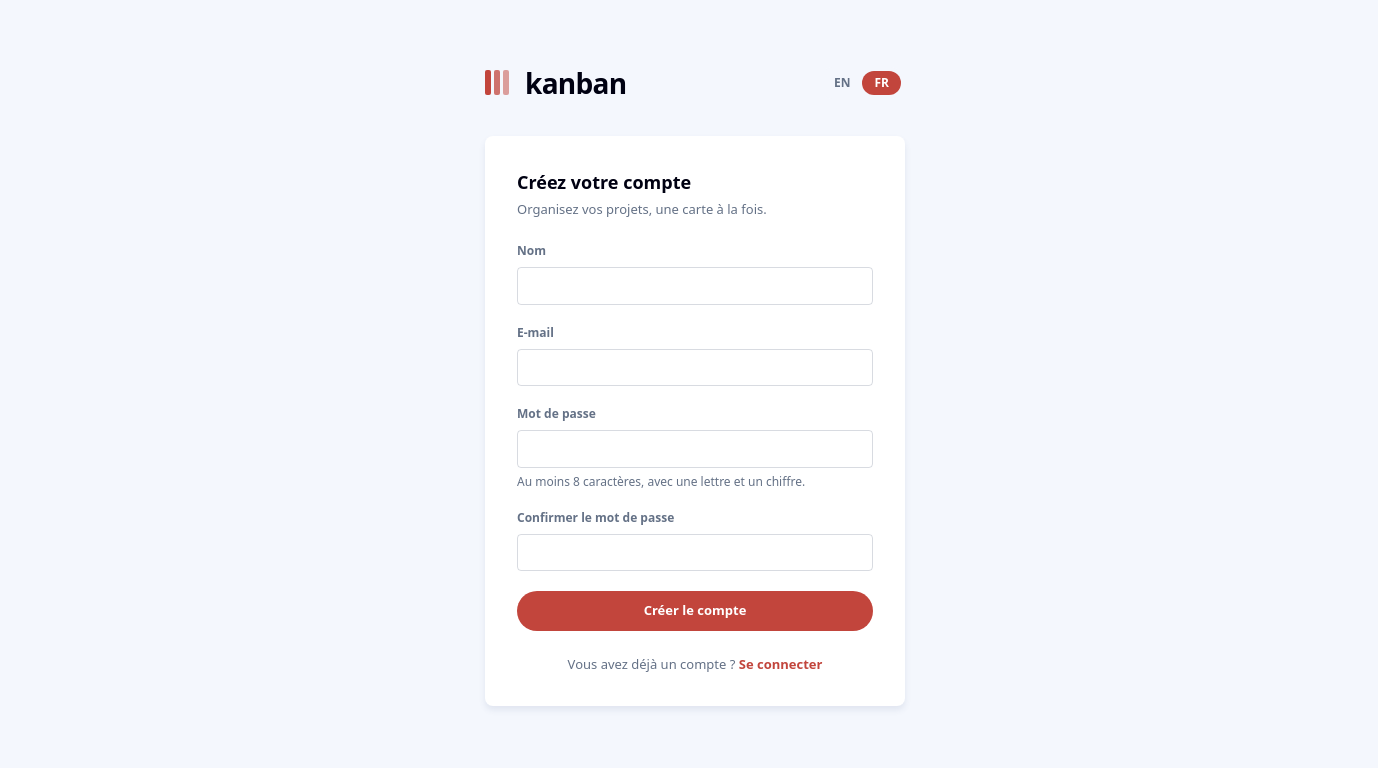
Scenario: signup › creates an account in the chosen language
The width and height of the screenshot is (1378, 768).
Type "Zakariae" into the field labelled "Nom" at {"x": 695, "y": 286}, box top-left (517, 267), bottom-right (873, 305)
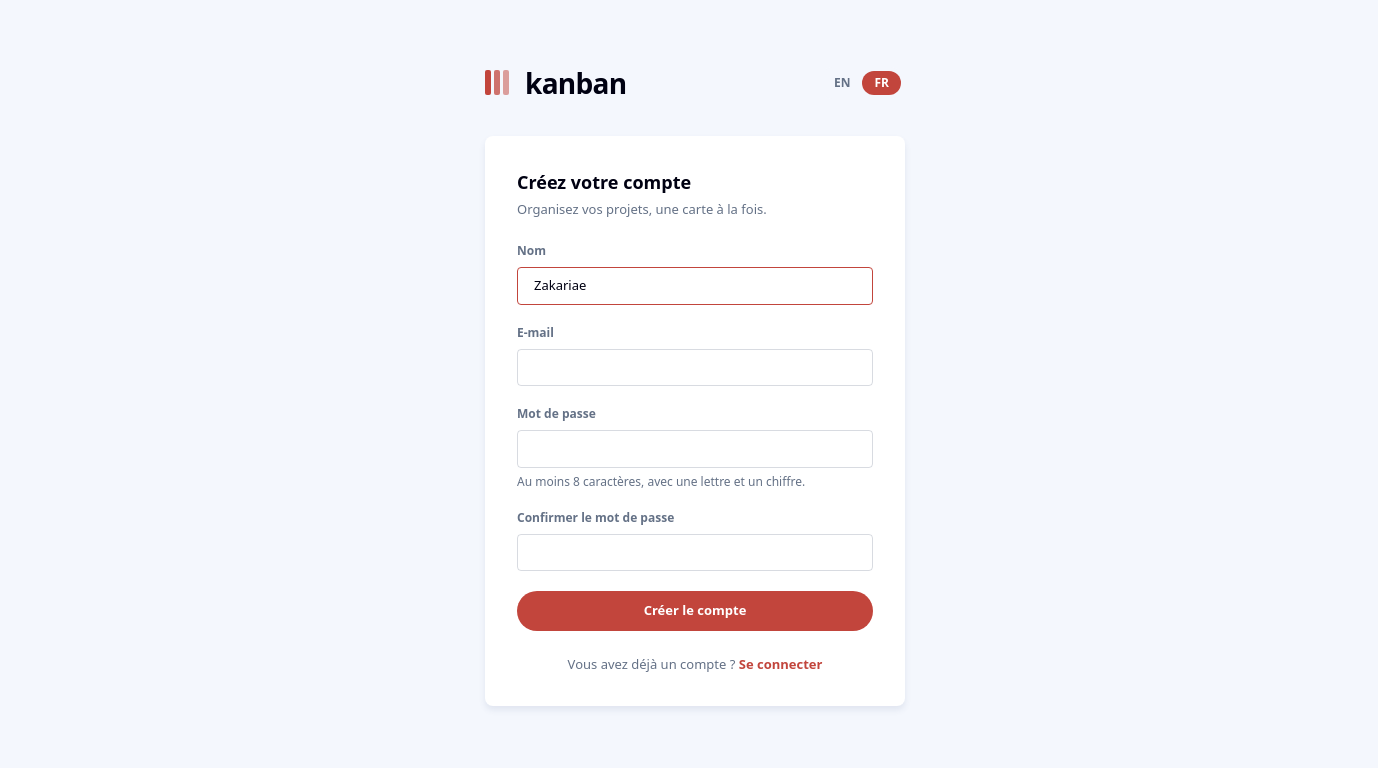
Type "zak@example.com" into the field labelled "E-mail" at {"x": 695, "y": 368}, box top-left (517, 349), bottom-right (873, 386)
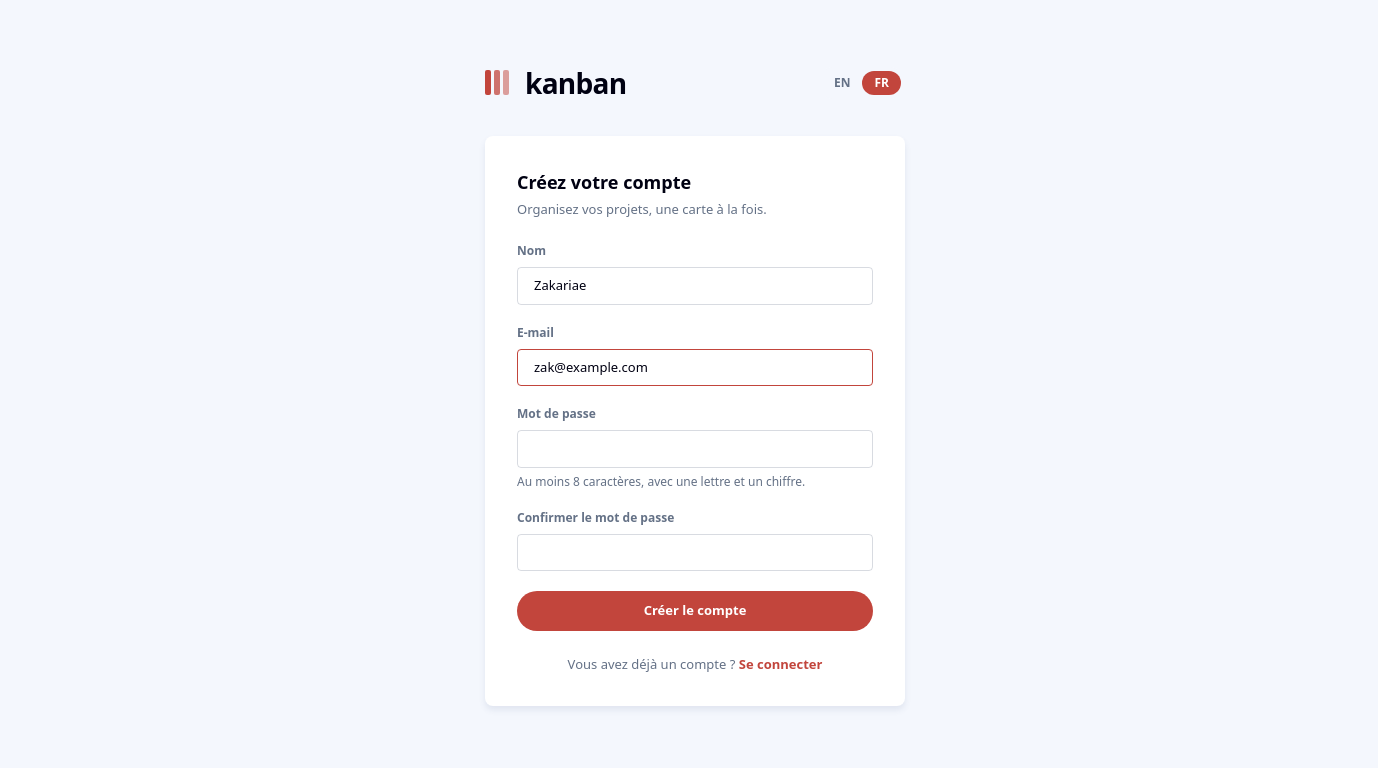
Type "Secret123" into the password field labelled "Mot de passe" at {"x": 695, "y": 449}, box top-left (517, 430), bottom-right (873, 468)
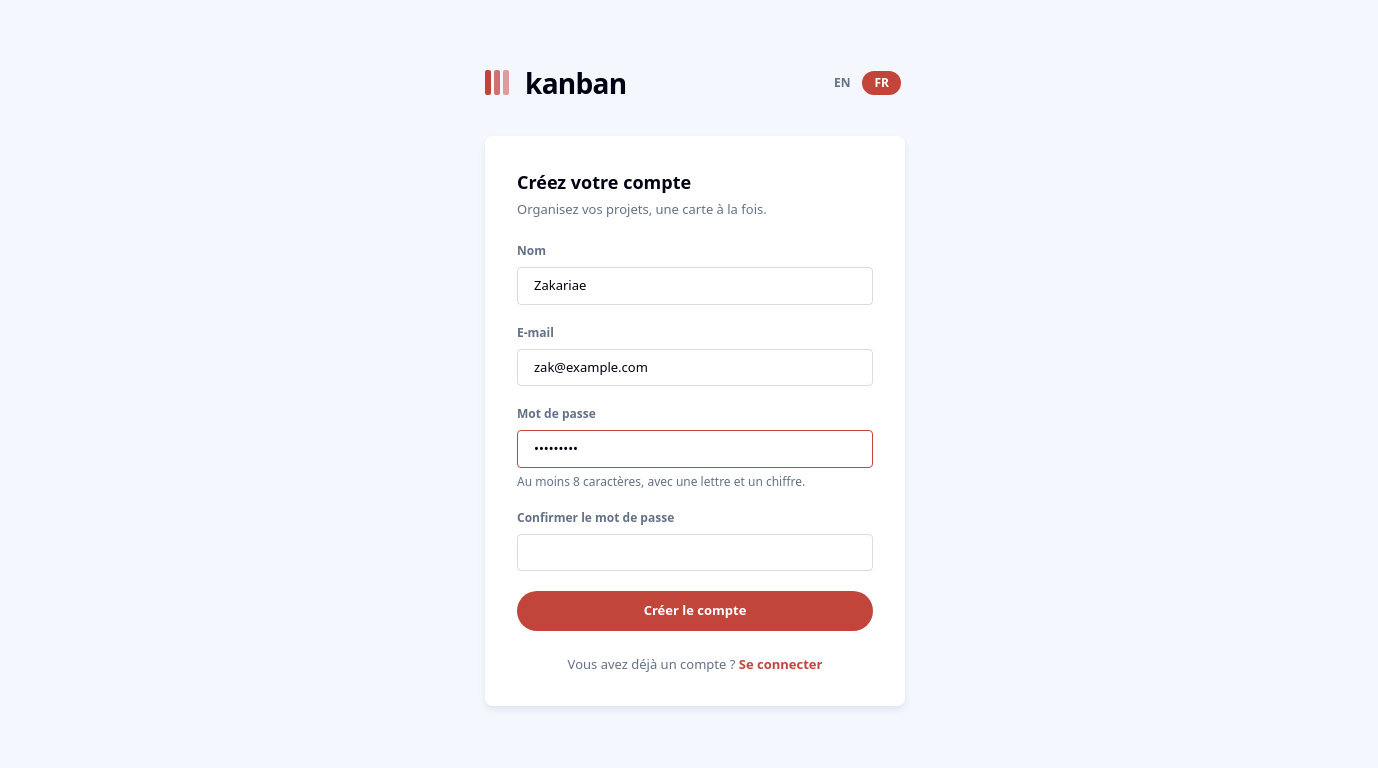
Type "Secret123" into the password field labelled "Confirmer le mot de passe" at {"x": 695, "y": 553}, box top-left (517, 534), bottom-right (873, 571)
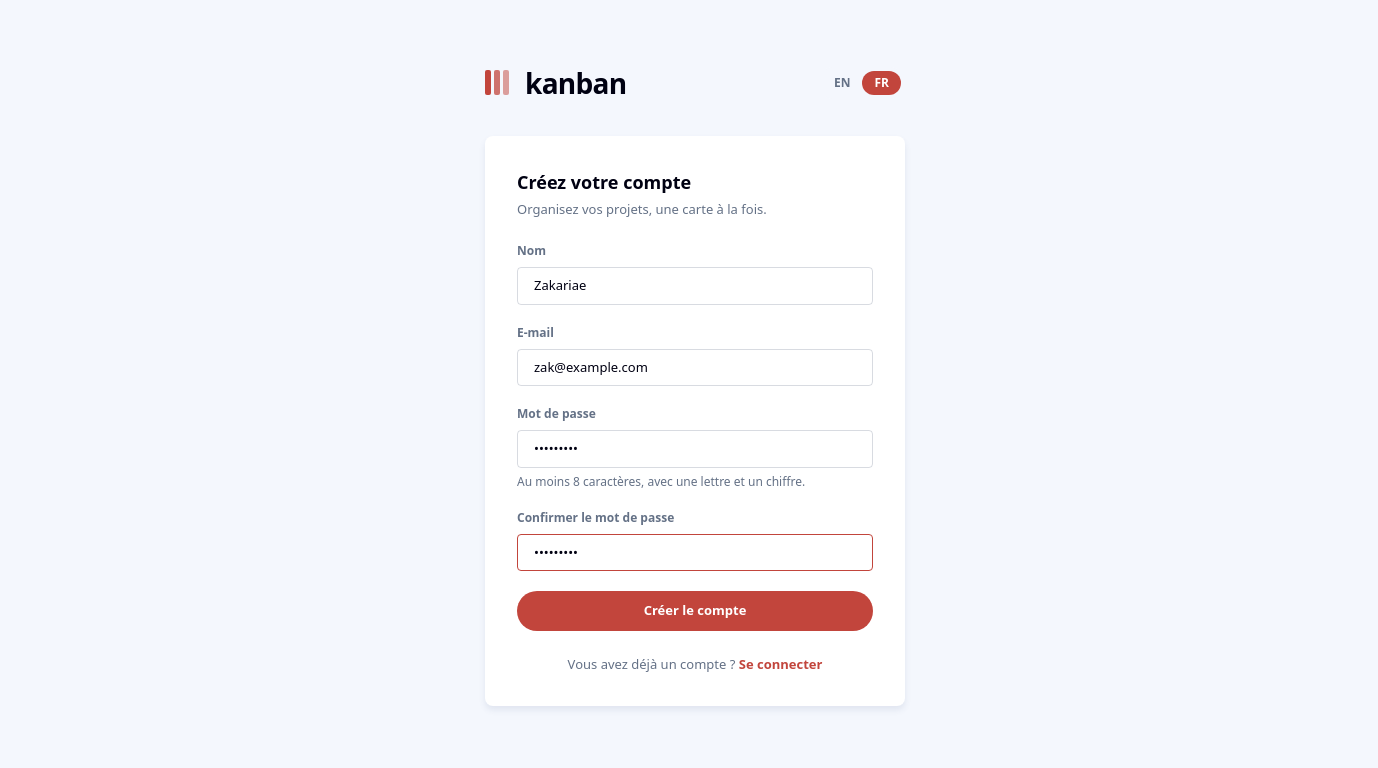
Click the button "Créer le compte" at {"x": 695, "y": 611}, box top-left (517, 591), bottom-right (873, 631)
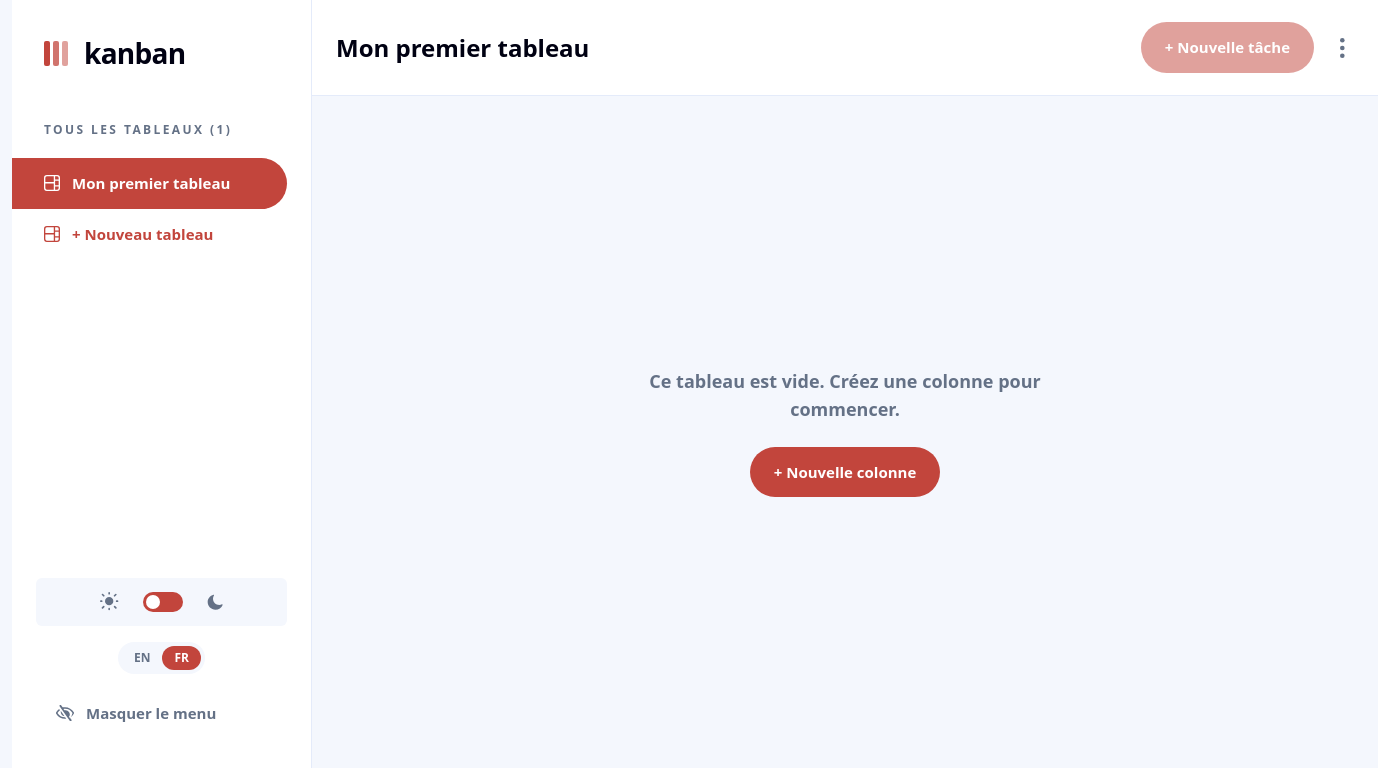
expect the heading "Mon premier tableau" is shown: met, box top-left (336, 32), bottom-right (589, 64)
